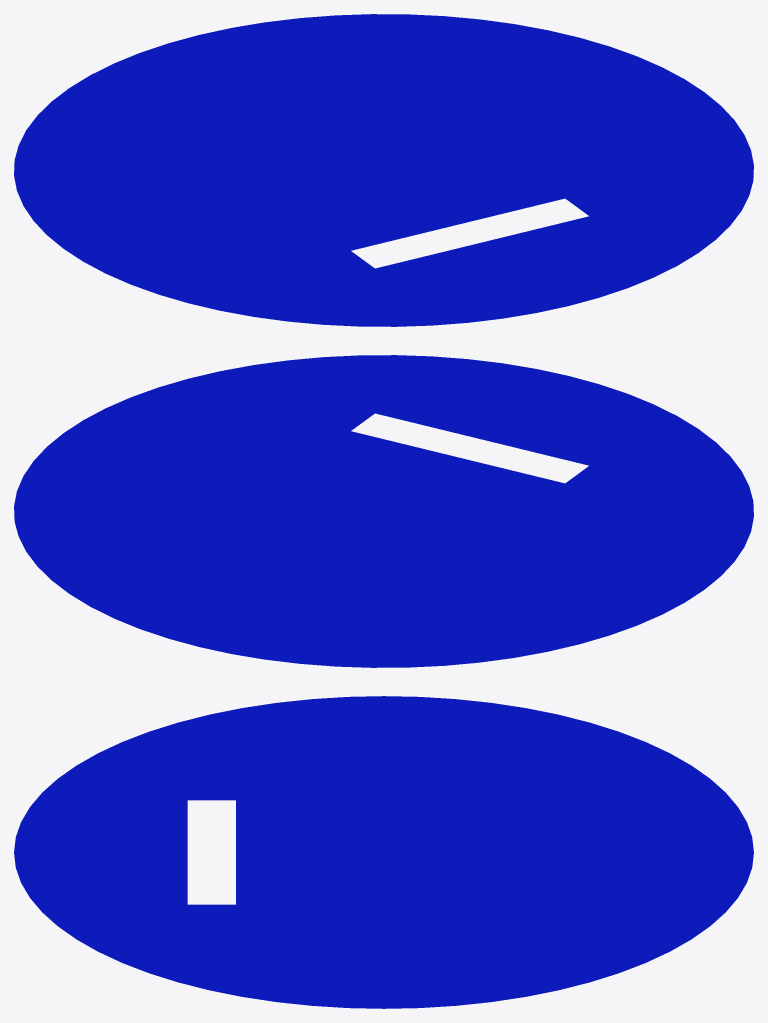
The model's file is 04-Gauge-Front-Material.fbx.
3 renders of one model, top to bottom at view 1: azimuth 30°, elevation 25°; view 2: azimuth 150°, elevation 25°; view 3: azimuth 270°, elevation 25°, orthographic.
Visible parts, largest first — view 1: 04-Gauge-Front-Material; view 2: 04-Gauge-Front-Material; view 3: 04-Gauge-Front-Material.
Part boxes in pixels (<box>): 04-Gauge-Front-Material: <box>14,14,753,326</box>; 04-Gauge-Front-Material: <box>14,355,753,667</box>; 04-Gauge-Front-Material: <box>14,696,753,1008</box>.
Bounding box in the file's own units: 197 × 3.2e-05 × 197.
